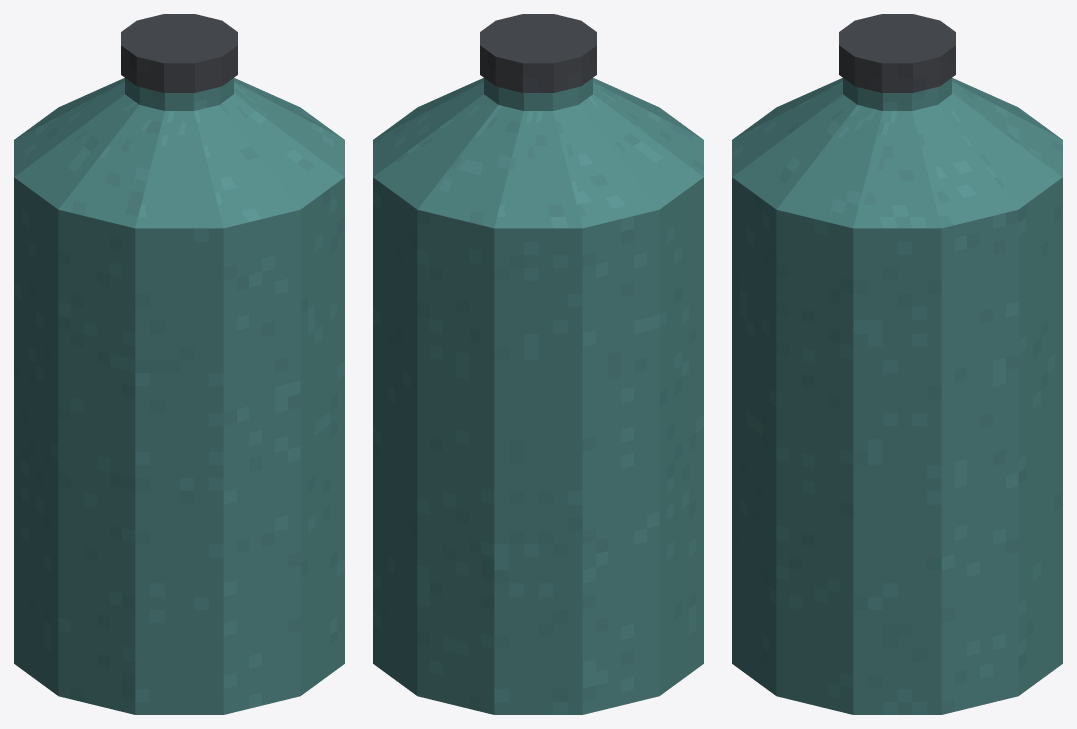
Rendered from bottle_twoliter_glue.glb.
3 renders of one model, left to right at view 1: azimuth 30°, elevation 25°; view 2: azimuth 150°, elevation 25°; view 3: azimuth 270°, elevation 25°, orthographic.
Visible parts, largest first — view 1: block_walls, block_shoulder, block_rim or cap, block_neck, block_foot; view 2: block_walls, block_shoulder, block_rim or cap, block_neck, block_foot; view 3: block_walls, block_shoulder, block_rim or cap, block_neck, block_foot.
Boxes of the visible parts, left/top/right/bottom form: block_walls: left=14, top=177, right=344, bottom=714; block_shoulder: left=14, top=78, right=344, bottom=228; block_rim or cap: left=121, top=14, right=237, bottom=92; block_neck: left=125, top=78, right=233, bottom=110; block_foot: left=14, top=634, right=344, bottom=714; block_walls: left=373, top=177, right=703, bottom=714; block_shoulder: left=373, top=78, right=703, bottom=228; block_rim or cap: left=480, top=14, right=596, bottom=92; block_neck: left=484, top=78, right=592, bottom=110; block_foot: left=373, top=634, right=703, bottom=714; block_walls: left=732, top=177, right=1062, bottom=714; block_shoulder: left=732, top=78, right=1062, bottom=228; block_rim or cap: left=839, top=14, right=955, bottom=92; block_neck: left=843, top=78, right=951, bottom=110; block_foot: left=732, top=634, right=1062, bottom=714.
Bounding box in the file's own units: 0.1532 × 0.31 × 0.1532.
1 material, 1 textured.
